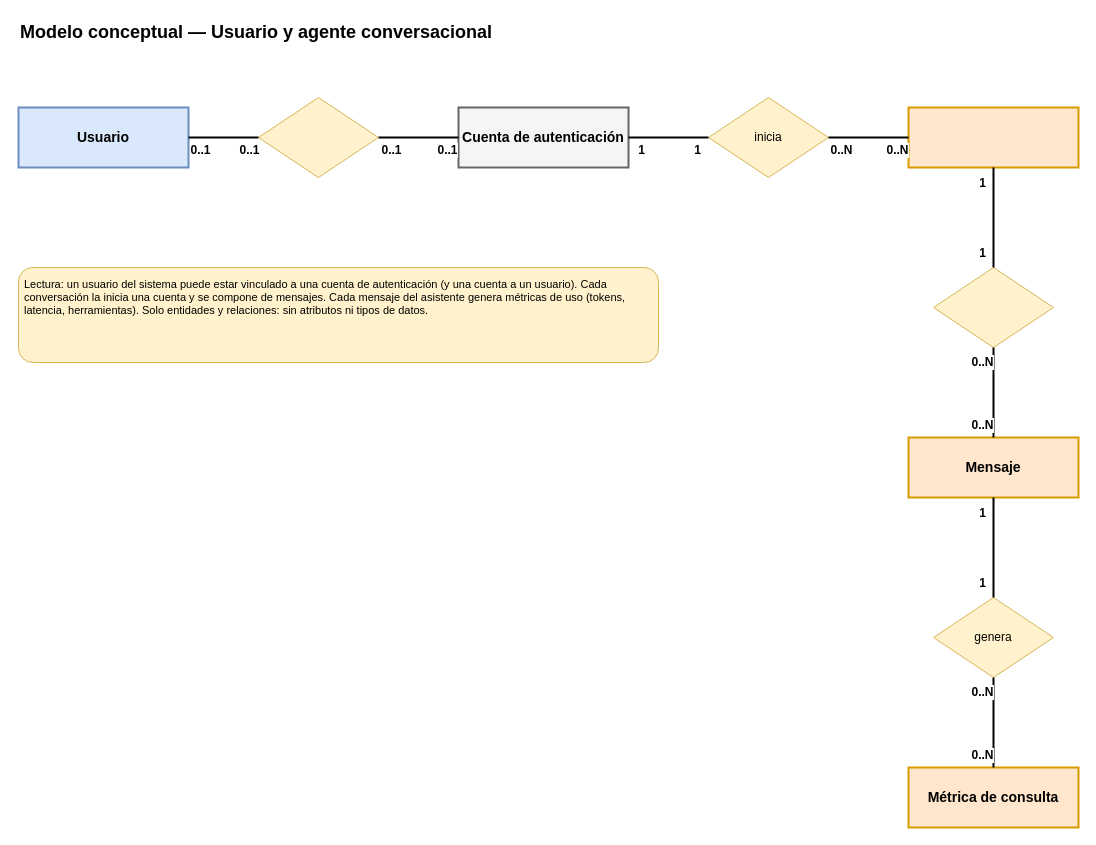
Some shapes in this 1096 by 845 pixel diagram are drawn without their labels. Each missing label, with the centre of its shape:
"contiene" belongs at pixel 993 307.
"Conversación" belongs at pixel 993 137.
"tiene" belongs at pixel 318 137.
